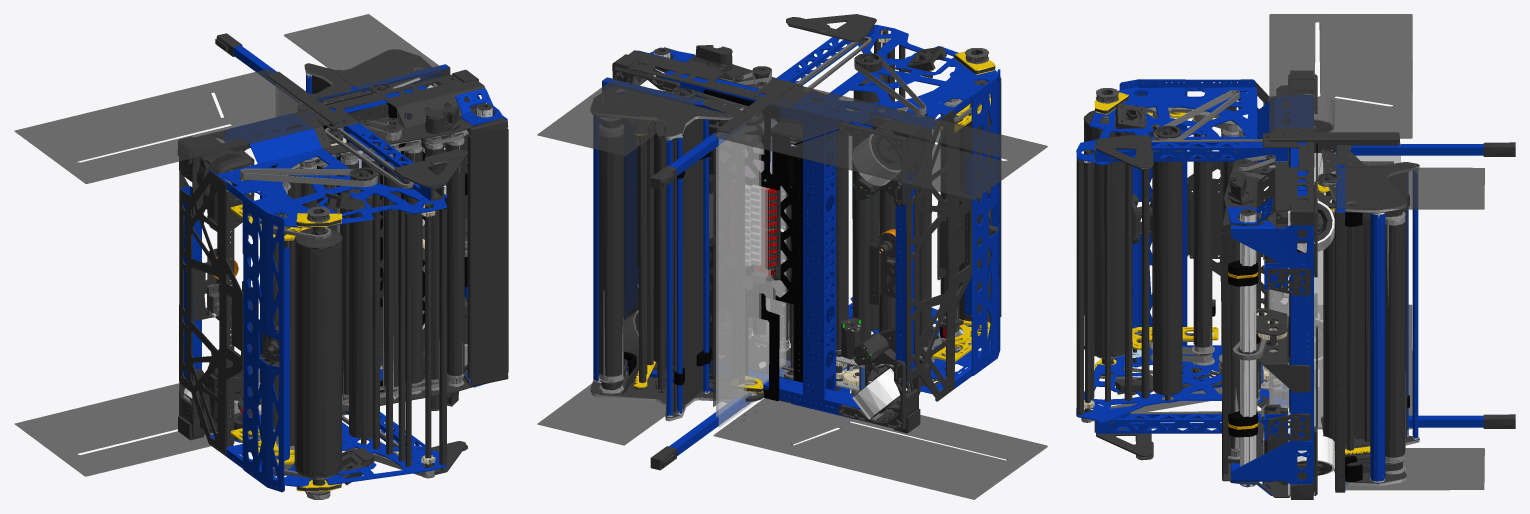
The picture shows the model from 3 angles, left to right: view 1: azimuth 30°, elevation 25°; view 2: azimuth 150°, elevation 25°; view 3: azimuth 270°, elevation 25°; orthographic projection. The views are drawn at different scales.
Visible parts, largest first — view 1: main_mesh, c2_mesh, c3_mesh, c1_mesh; view 2: main_mesh, c2_mesh, c3_mesh, c1_mesh, c0_mesh; view 3: main_mesh, c2_mesh, c1_mesh, c3_mesh, c0_mesh.
Boxes of the visible parts, bbox=[...] form: main_mesh: bbox=[178, 69, 508, 499]; c2_mesh: bbox=[14, 68, 345, 476]; c3_mesh: bbox=[215, 14, 450, 361]; c1_mesh: bbox=[298, 49, 432, 368]; main_mesh: bbox=[612, 14, 1001, 433]; c2_mesh: bbox=[713, 80, 1047, 499]; c3_mesh: bbox=[537, 77, 751, 470]; c1_mesh: bbox=[590, 86, 764, 421]; c0_mesh: bbox=[633, 88, 763, 392]; main_mesh: bbox=[1076, 70, 1334, 499]; c2_mesh: bbox=[1269, 14, 1412, 429]; c1_mesh: bbox=[1321, 150, 1419, 486]; c3_mesh: bbox=[1335, 142, 1515, 492]; c0_mesh: bbox=[1317, 147, 1370, 456].
Size of the model in its own units: 0.9912 by 0.691 by 0.9384.
